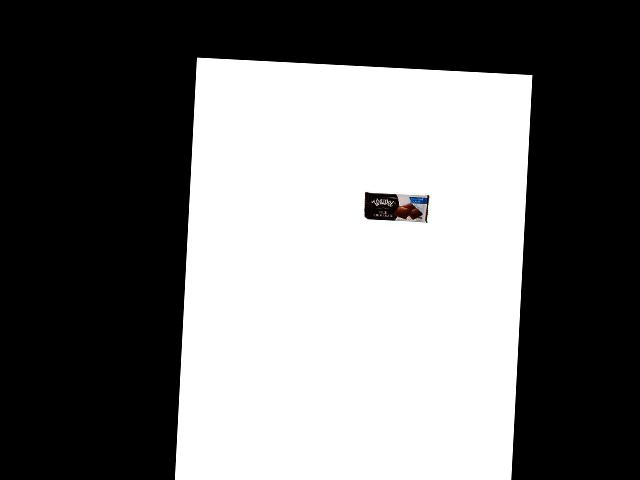chocolate: (364, 190, 429, 224)
